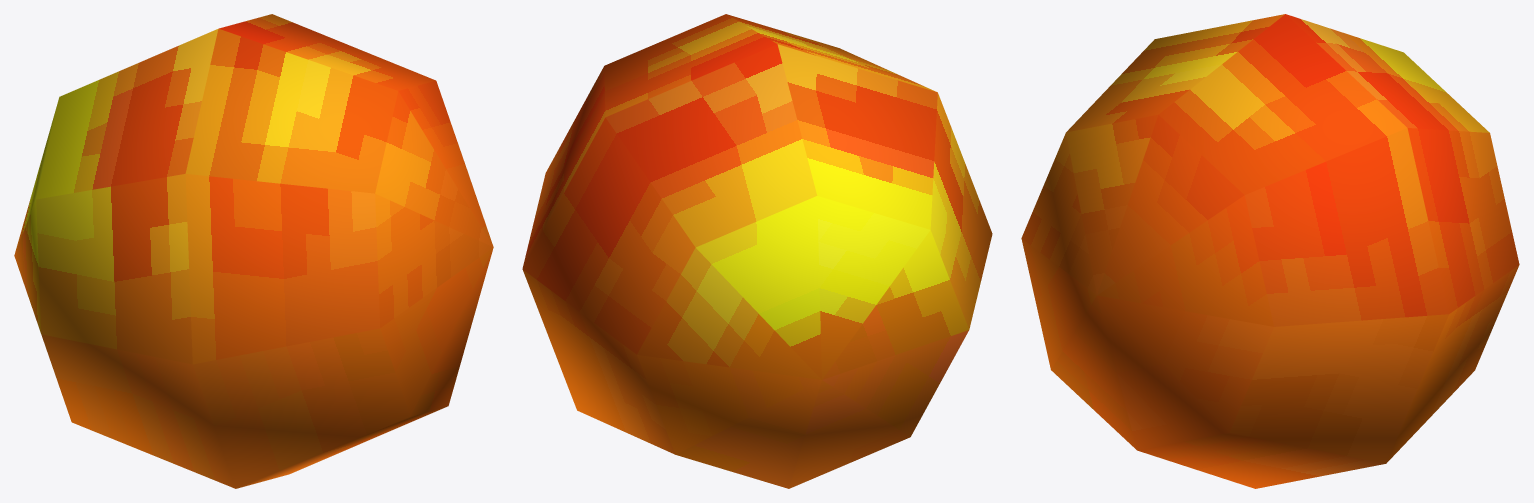
The picture shows the model from 3 angles, left to right: view 1: azimuth 30°, elevation 25°; view 2: azimuth 150°, elevation 25°; view 3: azimuth 270°, elevation 25°; orthographic projection. The views are drawn at different scales.
Visible parts, largest first — view 1: Sphere_8 (1); view 2: Sphere_8 (1); view 3: Sphere_8 (1).
Part boxes in pixels (x1=…): Sphere_8 (1): x1=14, y1=14, x2=493, y2=488; Sphere_8 (1): x1=522, y1=14, x2=992, y2=488; Sphere_8 (1): x1=1021, y1=14, x2=1519, y2=488.
Size of the model in its own units: 1.06 by 1.06 by 1.07.
